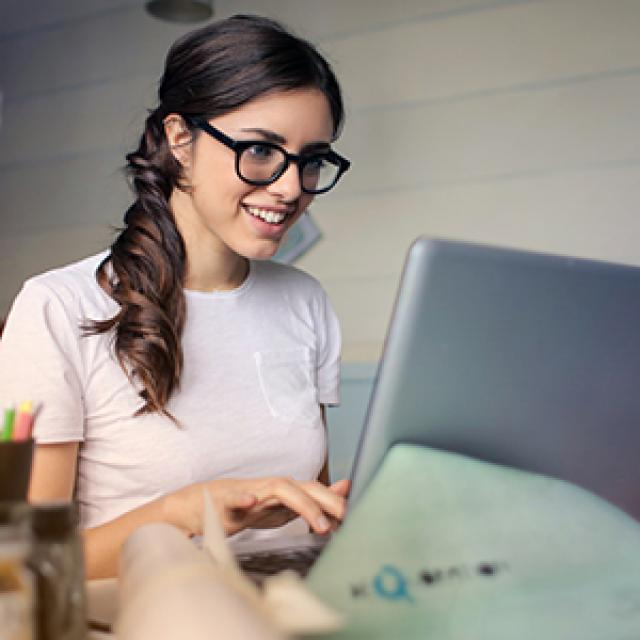Glasses: (192, 115, 355, 202)
